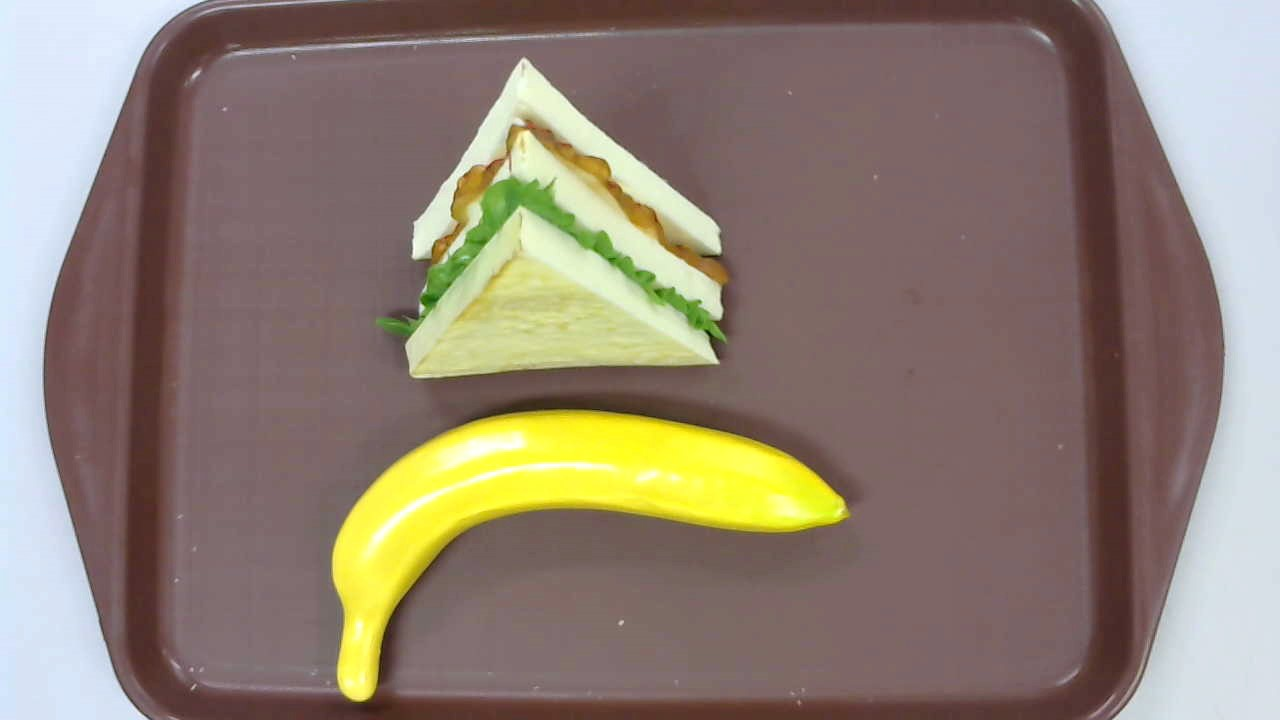banana: (331, 409, 851, 701)
sandwich: (376, 56, 732, 382)
